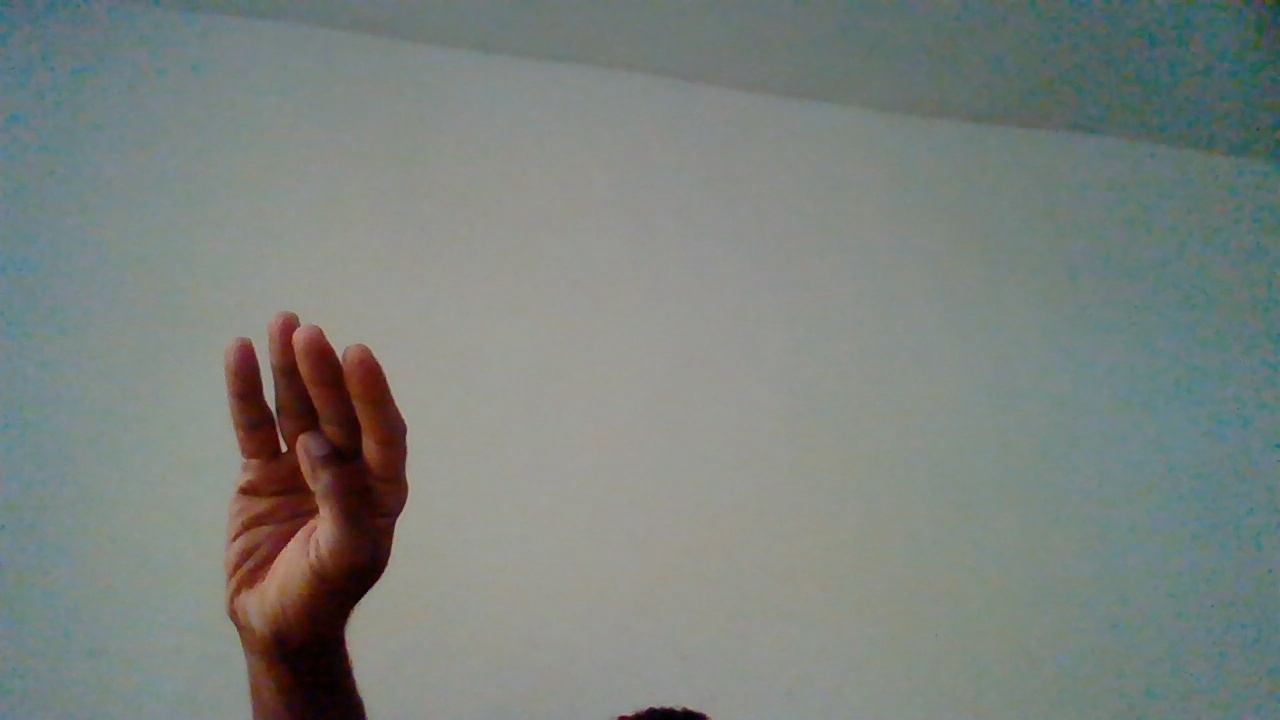me: (217, 313, 405, 720)
